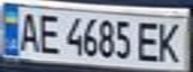4: (60, 14, 84, 56)
5: (112, 17, 136, 61)
6: (78, 15, 100, 57)
8: (97, 16, 118, 58)
A: (15, 9, 42, 53)
E: (133, 18, 163, 63), (33, 10, 63, 55)
K: (154, 19, 187, 64)
